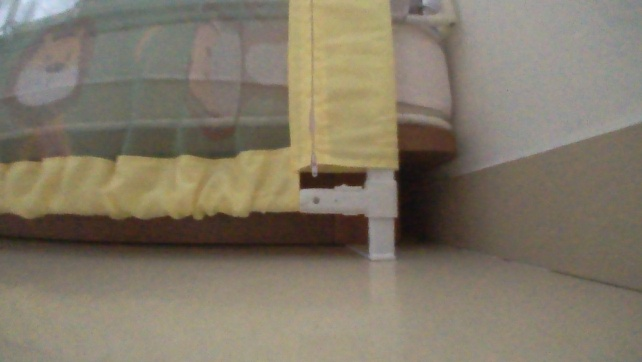bed1: (0, 0, 460, 264)
